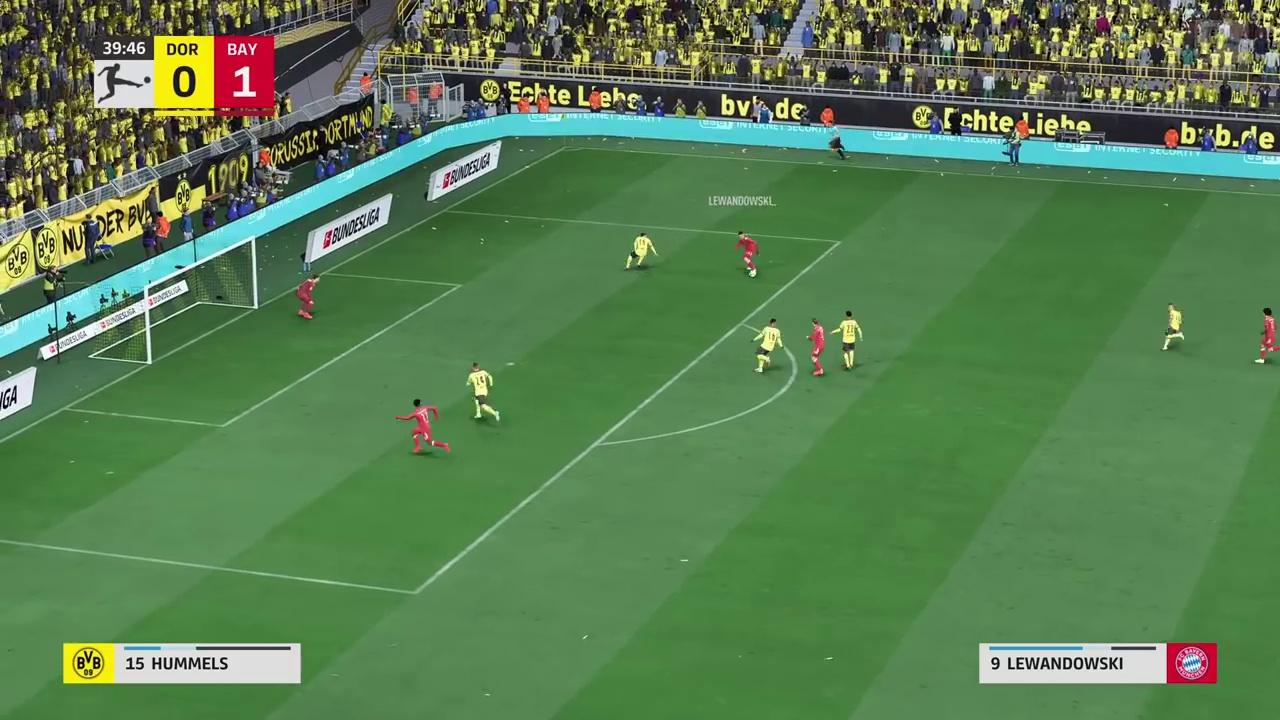scoreboard: (154, 34, 271, 115)
timestamp: (94, 35, 153, 61)
